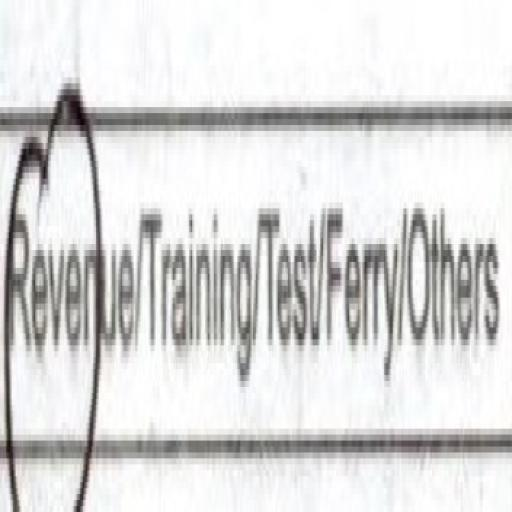check: (0, 59, 135, 506)
